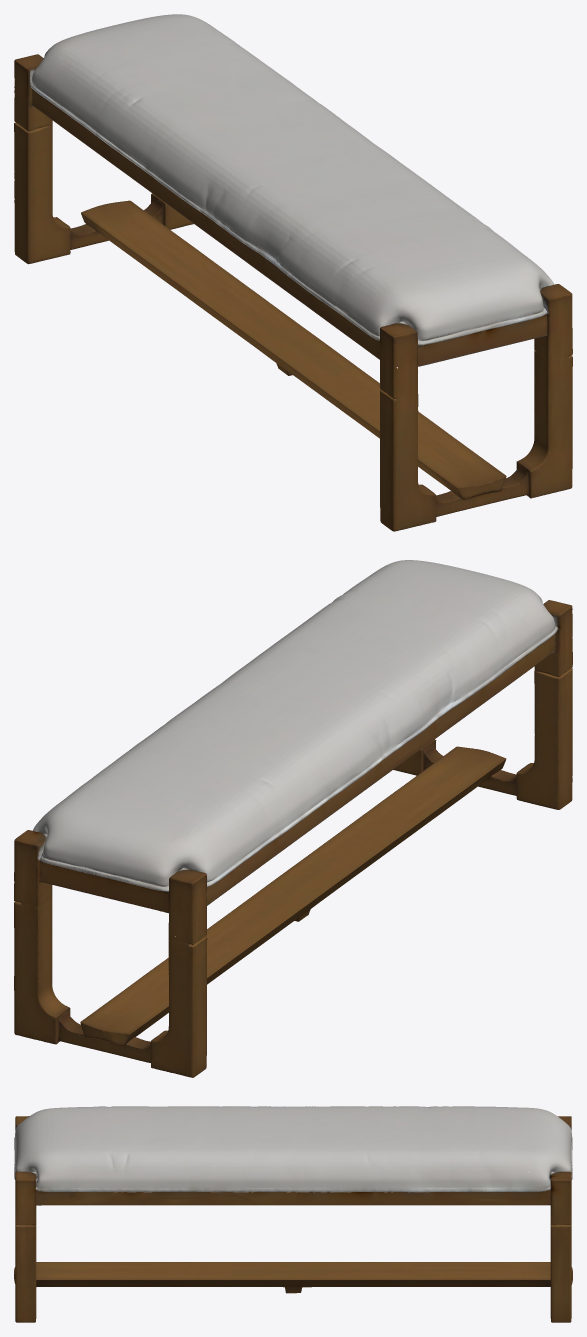
The model's file is bench-decoded.glb.
The picture shows the model from 3 angles, top to bottom: view 1: azimuth 30°, elevation 25°; view 2: azimuth 150°, elevation 25°; view 3: azimuth 270°, elevation 25°; orthographic projection. The views are drawn at different scales.
Parts seen in each view (by area): view 1: tripo_node_afac9f19-a820-4476-bd10-b646a69cd023; view 2: tripo_node_afac9f19-a820-4476-bd10-b646a69cd023; view 3: tripo_node_afac9f19-a820-4476-bd10-b646a69cd023.
Boxes of the visible parts, x1,y1,x2,y2 form: tripo_node_afac9f19-a820-4476-bd10-b646a69cd023: (14, 14, 572, 531); tripo_node_afac9f19-a820-4476-bd10-b646a69cd023: (14, 560, 572, 1077); tripo_node_afac9f19-a820-4476-bd10-b646a69cd023: (14, 1106, 572, 1322).
Bounding box in the file's own units: 0.2778 × 0.3239 × 1.
1 material, 1 textured.
